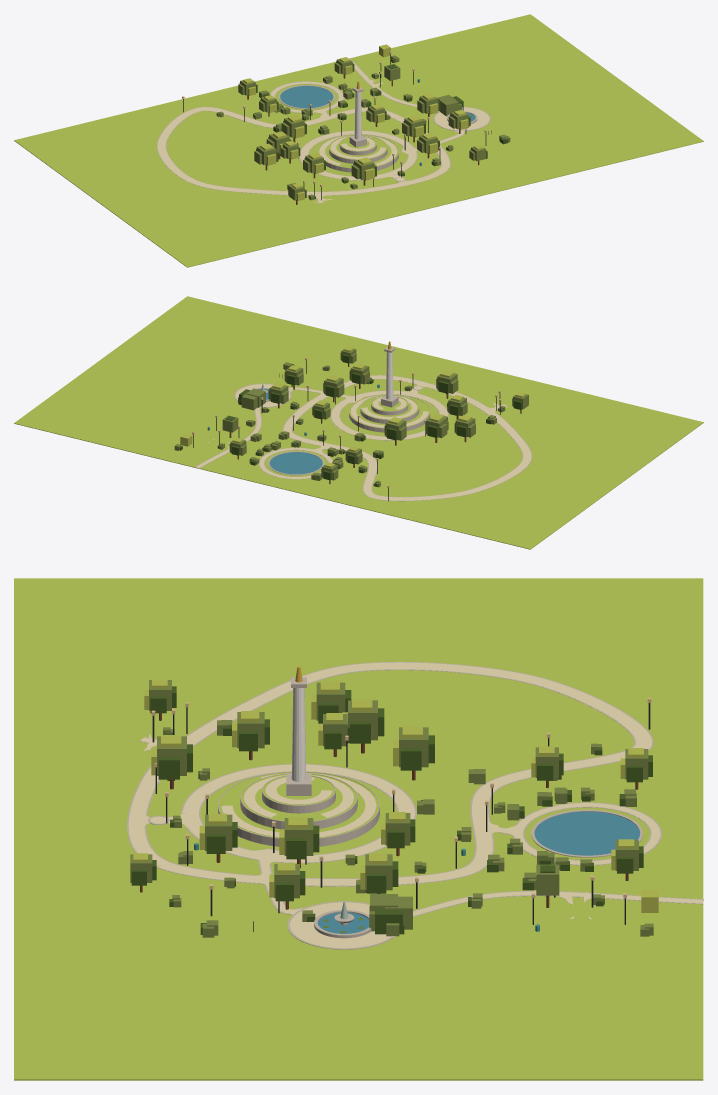
File: chunk_-1_-1.glb
3 renders of one model, top to bottom at view 1: azimuth 30°, elevation 25°; view 2: azimuth 150°, elevation 25°; view 3: azimuth 270°, elevation 25°, orthographic. The views are drawn at different scales.
Parts seen in each view (by area): view 1: chunk_-1_-1__ground, chunk_-1_-1__tree, chunk_-1_-1__feat_hill, chunk_-1_-1__water, chunk_-1_-1__feat_column, chunk_-1_-1__lamp; view 2: chunk_-1_-1__ground, chunk_-1_-1__tree, chunk_-1_-1__feat_hill, chunk_-1_-1__water, chunk_-1_-1__feat_column, chunk_-1_-1__lamp; view 3: chunk_-1_-1__ground, chunk_-1_-1__tree, chunk_-1_-1__feat_hill, chunk_-1_-1__water, chunk_-1_-1__feat_column, chunk_-1_-1__lamp.
Part boxes in pixels (x1,y1,x2,y2): chunk_-1_-1__ground: [14, 14, 703, 267]; chunk_-1_-1__tree: [216, 44, 510, 204]; chunk_-1_-1__feat_hill: [317, 134, 398, 172]; chunk_-1_-1__water: [278, 85, 477, 123]; chunk_-1_-1__feat_column: [349, 81, 366, 147]; chunk_-1_-1__lamp: [182, 51, 486, 200]; chunk_-1_-1__ground: [14, 296, 703, 549]; chunk_-1_-1__tree: [174, 346, 528, 487]; chunk_-1_-1__feat_hill: [349, 394, 430, 432]; chunk_-1_-1__water: [255, 388, 324, 475]; chunk_-1_-1__feat_column: [381, 341, 398, 407]; chunk_-1_-1__lamp: [192, 357, 501, 501]; chunk_-1_-1__ground: [14, 578, 703, 1080]; chunk_-1_-1__tree: [130, 679, 658, 937]; chunk_-1_-1__feat_hill: [218, 771, 379, 846]; chunk_-1_-1__water: [314, 809, 643, 938]; chunk_-1_-1__feat_column: [286, 666, 311, 795]; chunk_-1_-1__lamp: [151, 698, 651, 924].
Bounding box in the file's own units: 148 × 20.65 × 86.15.
